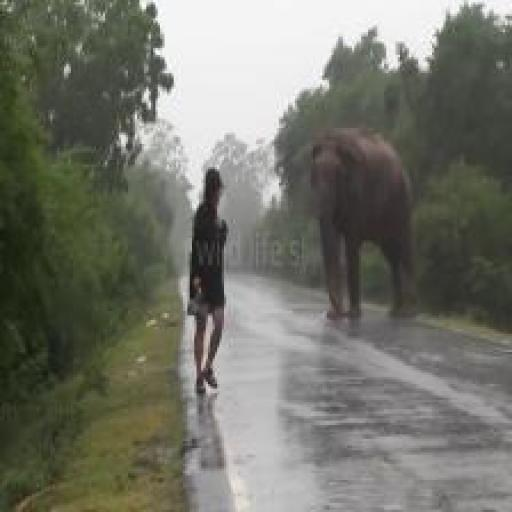Elephant: (279, 123, 439, 358)
